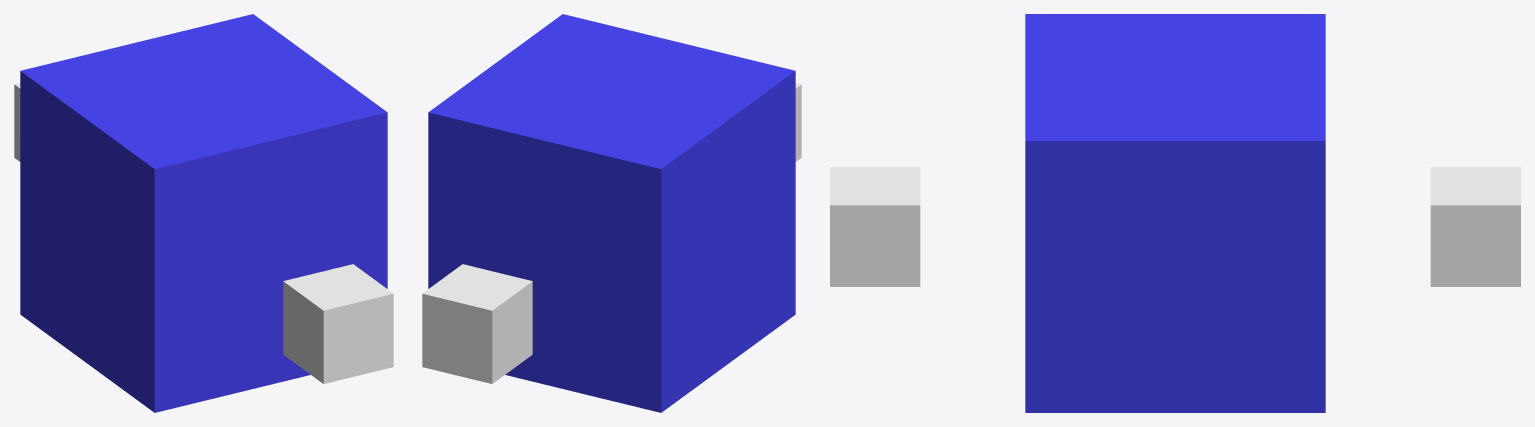
The model's file is minimap_room_2_door_straight.fbx.
3 views of the same model, side by side, from view 1: azimuth 30°, elevation 25°; view 2: azimuth 150°, elevation 25°; view 3: azimuth 270°, elevation 25° (orthographic). The views are drawn at different scales.
Parts seen in each view (by area): view 1: minimap_room_2_door_straight; view 2: minimap_room_2_door_straight; view 3: minimap_room_2_door_straight.
Part boxes in pixels (x1=…): minimap_room_2_door_straight: x1=14, y1=14, x2=393, y2=412; minimap_room_2_door_straight: x1=422, y1=14, x2=801, y2=412; minimap_room_2_door_straight: x1=830, y1=14, x2=1520, y2=412.
Size of the model in its own units: 0.5 by 0.5 by 1.15.
